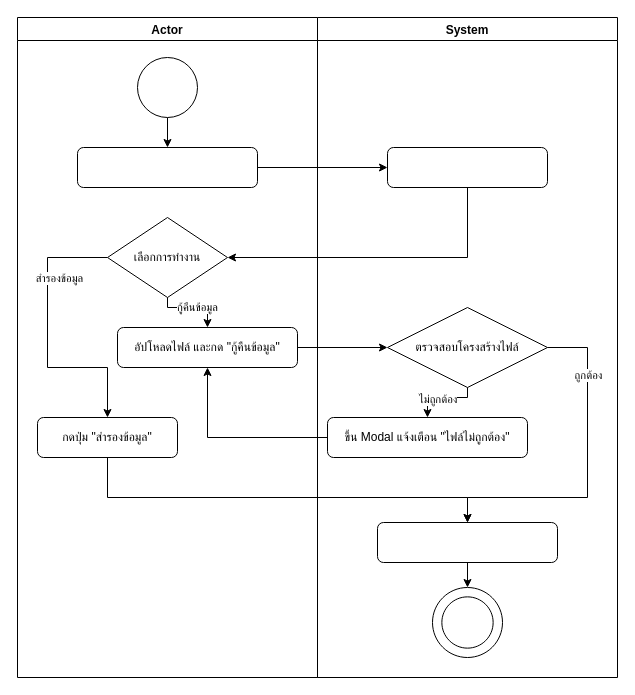
Image size: 635x695. Some labels were removed from this diagram. The centre of each missing label's shape, as x and y in pixels:
ดำเนินการประมวลผล และขึ้น Modal "ดำเนินการสำเร็จ": (467,542)
เลือกเมนู "ตั้งค่าระบบ" และเลือก "สำรองและกู้คืนข้อมูล": (167,167)
แสดงหน้าจอจัดการฐานข้อมูล: (467,167)
